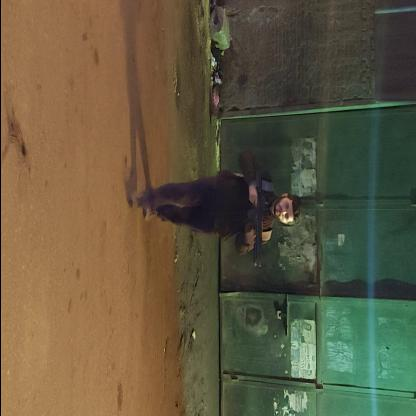long weapon: (242, 161, 268, 271)
